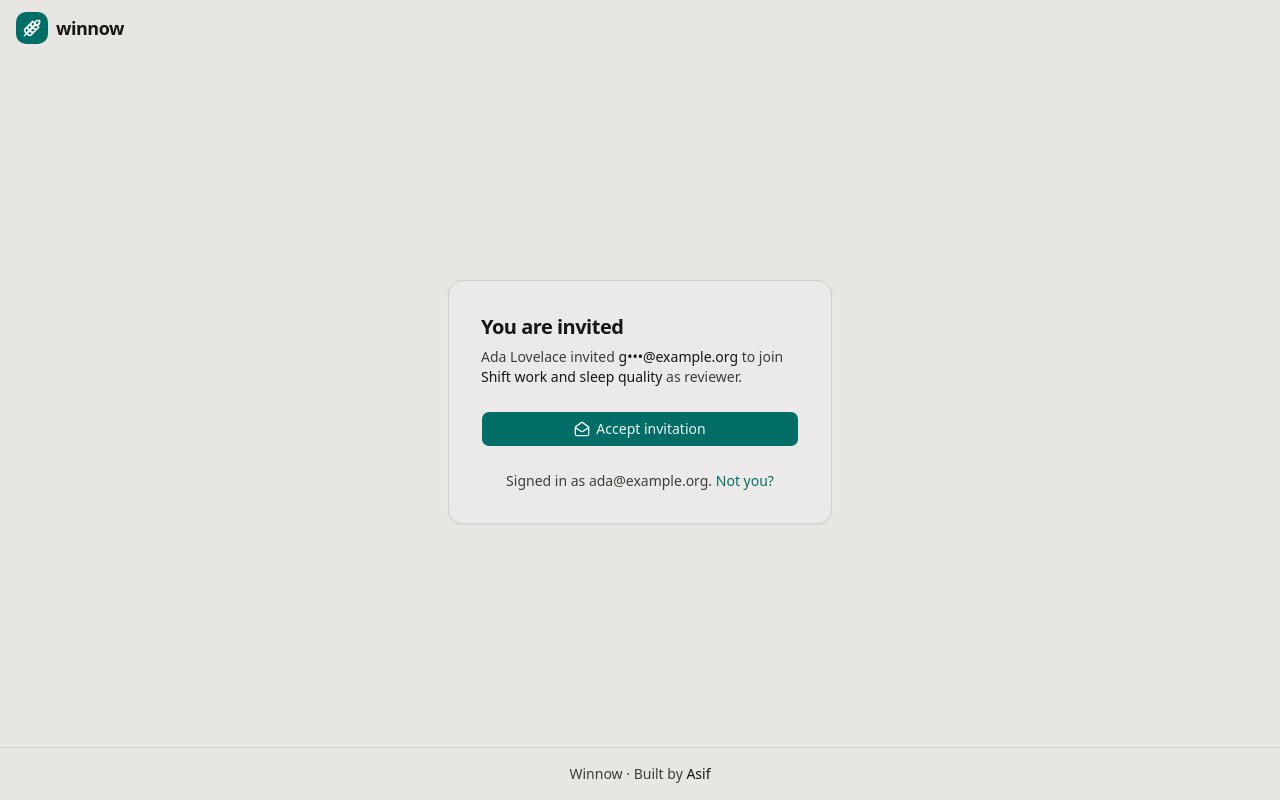
Test: the invitation page › an invitation for another address says so
The image size is (1280, 800).
Click the button "Accept invitation".
click(640, 428)  # box [481, 410, 799, 446]
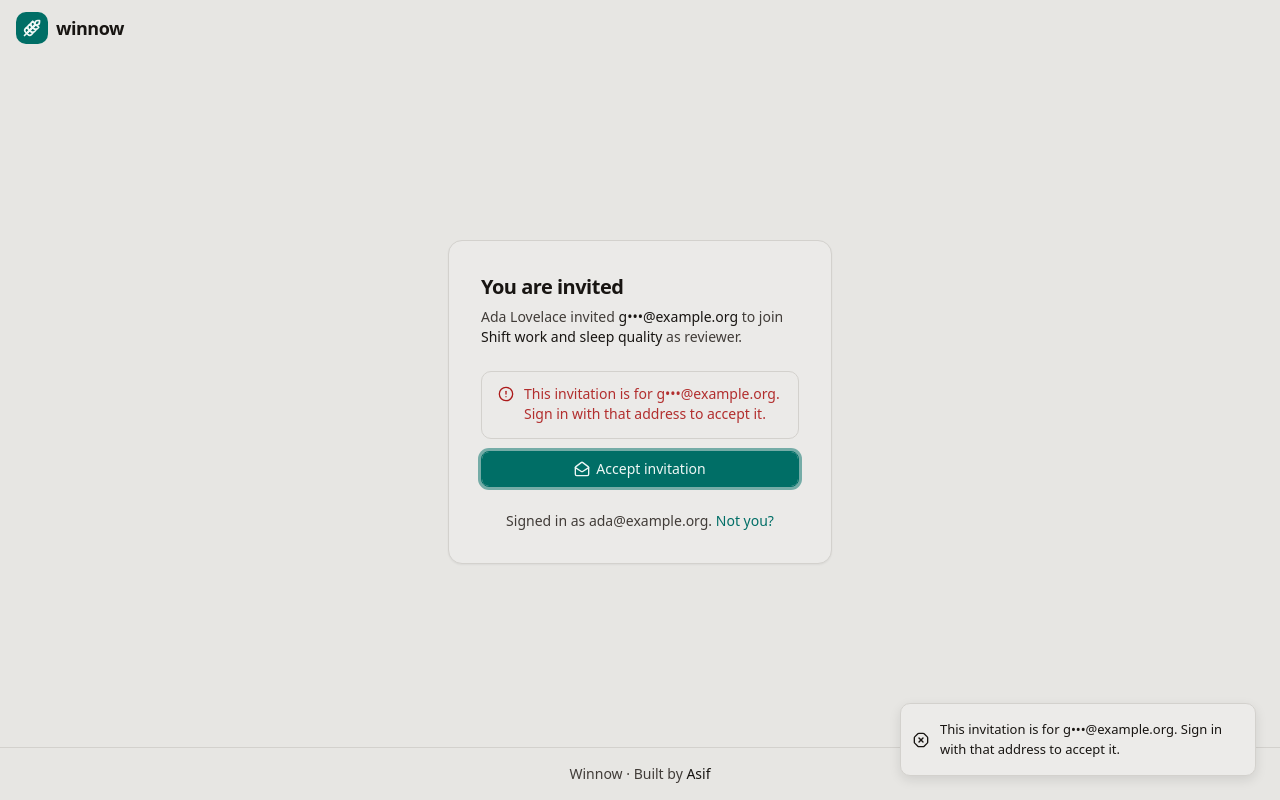
Now the message shows "Sign in with that address", box [524, 384, 780, 422]
